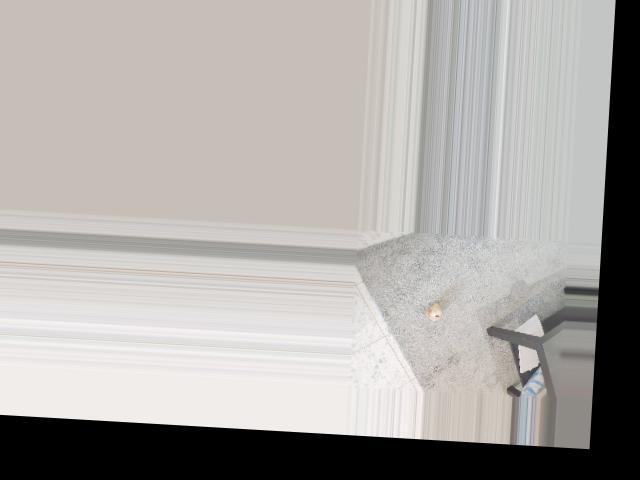onion: (422, 296, 445, 322)
